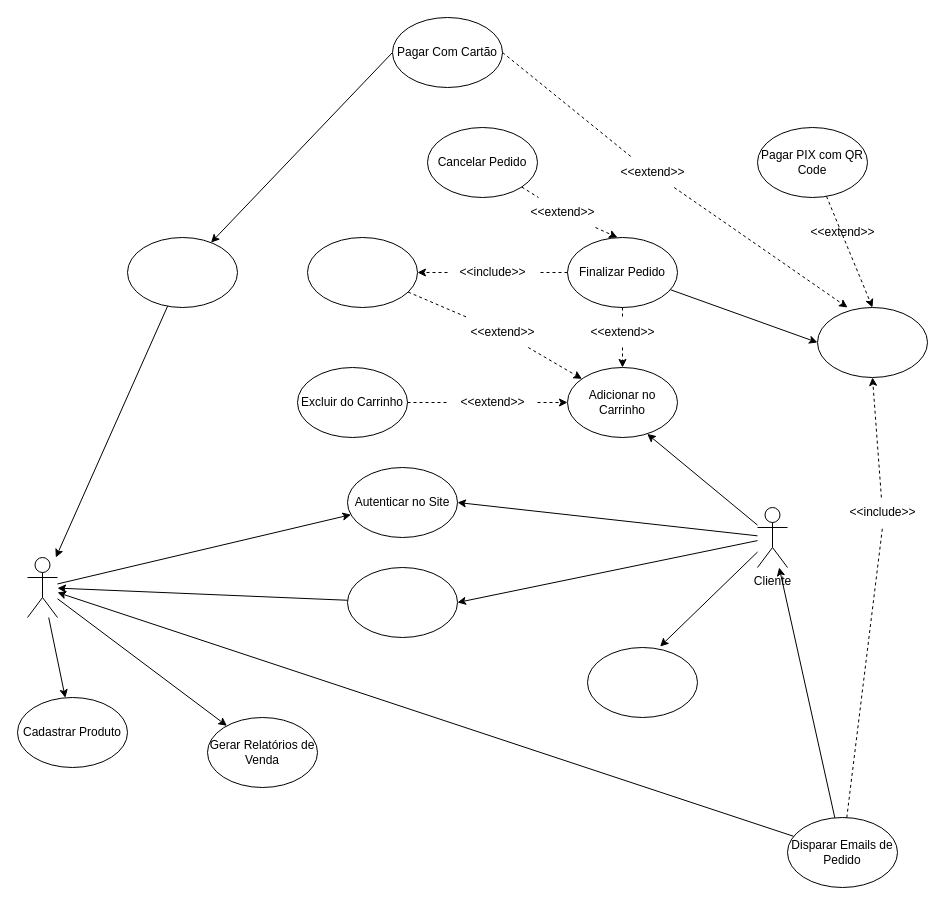
Some shapes in this 945 by 905 pixel diagram are drawn without their labels. Each missing label, with the centre of its shape:
"Artesã" belongs at pixel 42 587.
"Buscar Produtos" belongs at pixel 642 682.
"Calcular Frete" belongs at pixel 362 272.
"Contatar Artesã via WhatsApp" belongs at pixel 402 602.
"Efetuar Pagamento" belongs at pixel 872 342.
"Redirecionar para Whatsapp" belongs at pixel 182 272.
